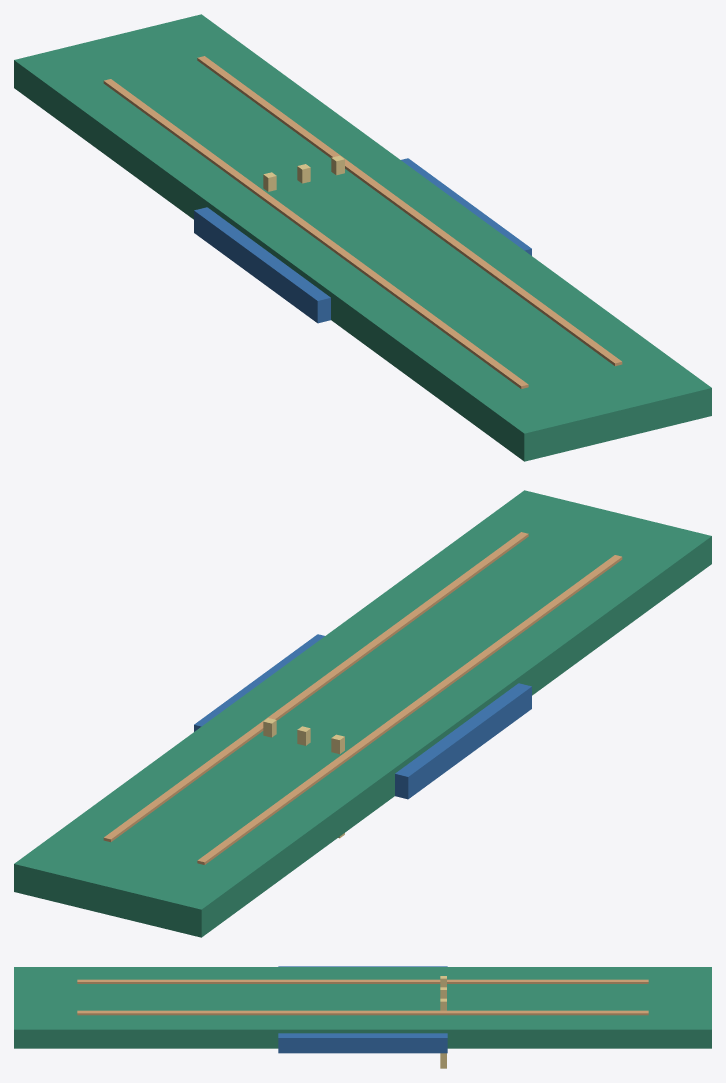
The model's file is soil.glb.
The picture shows the model from 3 angles, top to bottom: view 1: azimuth 30°, elevation 25°; view 2: azimuth 150°, elevation 25°; view 3: azimuth 270°, elevation 25°; orthographic projection. The views are drawn at different scales.
Parts seen in each view (by area): view 1: probe-pcb, connector-pcb, connector-header; view 2: probe-pcb, connector-pcb, connector-header; view 3: probe-pcb, connector-pcb, connector-header.
Part boxes in pixels (x1,y1,x2,y2): probe-pcb: [14, 14, 711, 461]; connector-pcb: [194, 158, 531, 323]; connector-header: [263, 155, 344, 191]; probe-pcb: [14, 490, 711, 937]; connector-pcb: [194, 634, 531, 799]; connector-header: [263, 718, 344, 838]; probe-pcb: [14, 967, 711, 1048]; connector-pcb: [278, 966, 447, 1053]; connector-header: [440, 976, 446, 1068].
Size of the model in its own units: 0.016 by 0.007 by 0.066.
